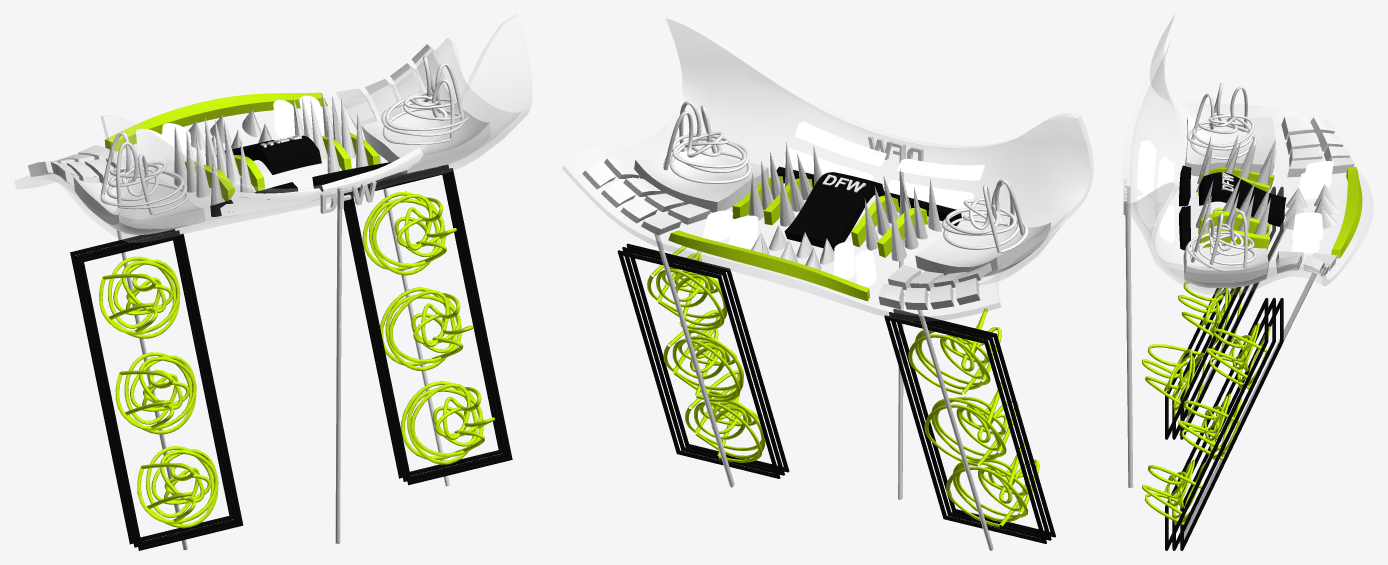
The model's file is DJ2_2_wakara-wht2-v49.glb.
3 renders of one model, left to right at view 1: azimuth 30°, elevation 25°; view 2: azimuth 150°, elevation 25°; view 3: azimuth 270°, elevation 25°, orthographic. The views are drawn at different scales.
Visible parts, largest first — view 1: DJSET_2-V2, donen dalga.001, DJ2_2_wakara; view 2: DJSET_2-V2, donen dalga.001, DJ2_2_wakara; view 3: DJSET_2-V2, donen dalga.001, DJ2_2_wakara.
Boxes of the visible parts, x1=… form: DJSET_2-V2: x1=14, y1=14, x2=532, y2=550; donen dalga.001: x1=99, y1=191, x2=494, y2=528; DJ2_2_wakara: x1=100, y1=56, x2=468, y2=215; DJSET_2-V2: x1=562, y1=14, x2=1093, y2=550; donen dalga.001: x1=647, y1=246, x2=1039, y2=527; DJ2_2_wakara: x1=663, y1=101, x2=1028, y2=253; DJSET_2-V2: x1=1122, y1=14, x2=1373, y2=550; donen dalga.001: x1=1141, y1=207, x2=1270, y2=525; DJ2_2_wakara: x1=1186, y1=83, x2=1256, y2=270.
Size of the model in its own units: 1.2 by 1.19 by 0.701.
